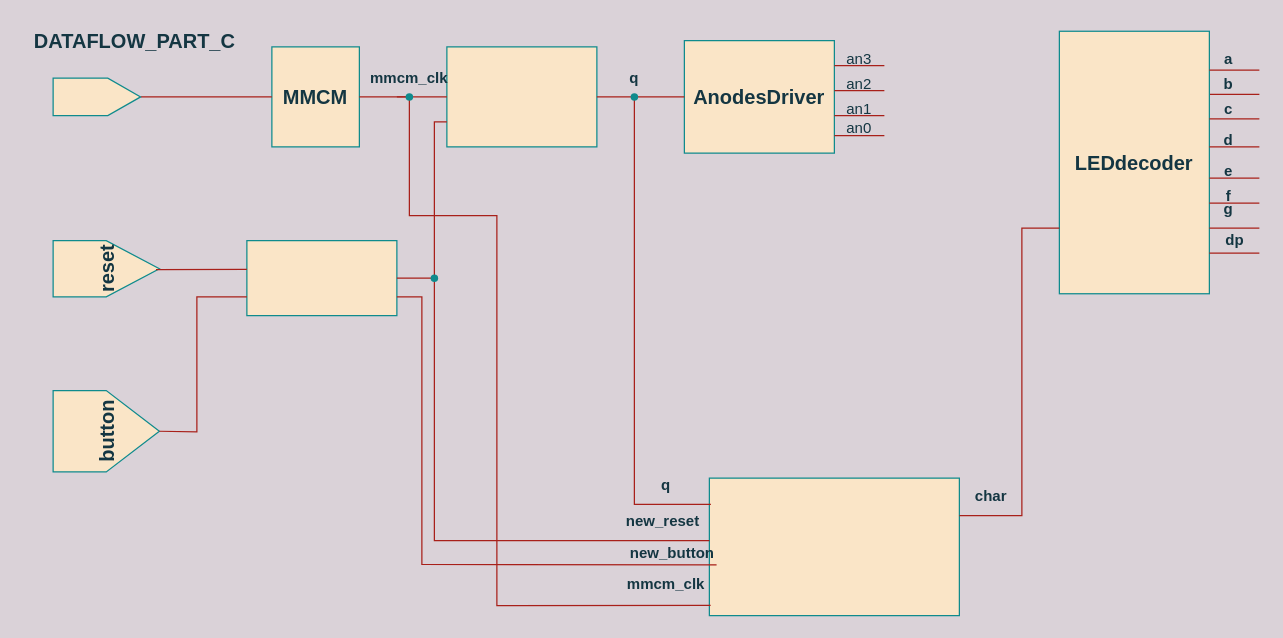
The diagram is 1283 pixels wide and 638 high, and some of its shapes have lost their labels. The shapes that lost their labels are listed below. From the top down, each one's centre as x and y in pixels, then its label:
At pixel 96 96: "clk".
At pixel 521 96: "FourBitCounter".
At pixel 321 277: "anti_bounce".
At pixel 833 546: "ButtonScrollingMessage".
